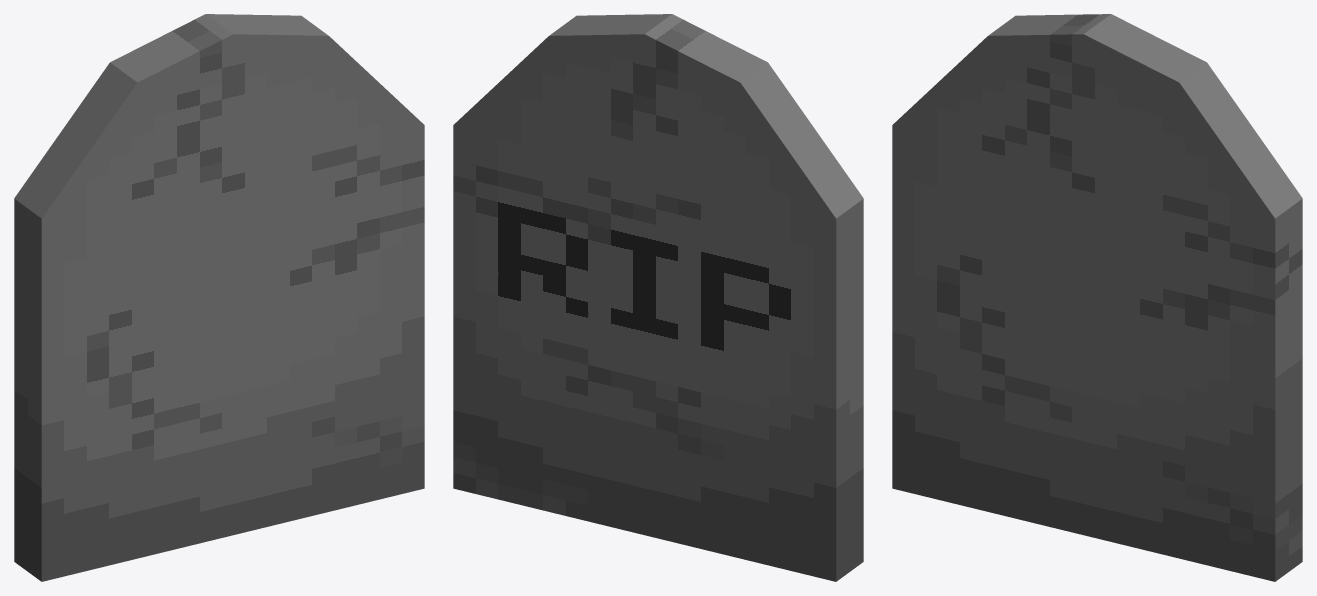
File: grave_1.gltf
The picture shows the model from 3 angles, left to right: view 1: azimuth 30°, elevation 25°; view 2: azimuth 150°, elevation 25°; view 3: azimuth 330°, elevation 25°; orthographic projection.
Visible parts, largest first — view 1: mesh; view 2: mesh; view 3: mesh.
Part boxes in pixels (left/top/right/bottom): mesh: left=14, top=14, right=424, bottom=581; mesh: left=453, top=14, right=863, bottom=581; mesh: left=892, top=14, right=1302, bottom=581.
Bounding box in the file's own units: 2 × 2.5 × 0.25.
Materials: 1 (1 with a texture image).
